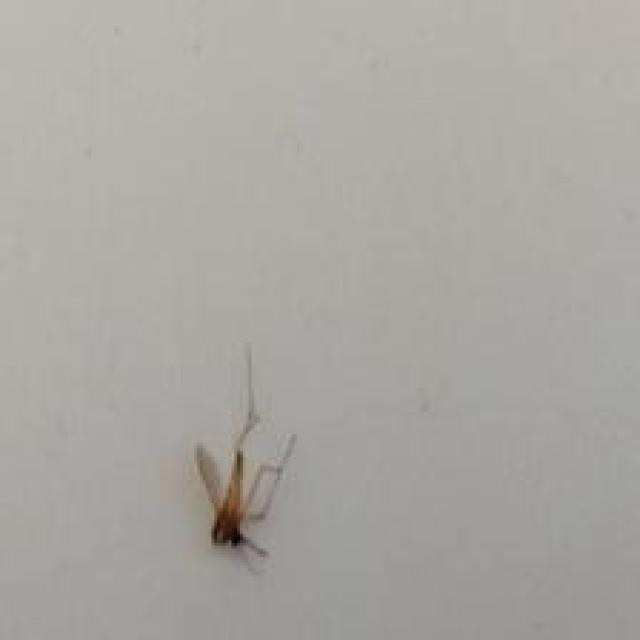Culex: (192, 341, 297, 570)
